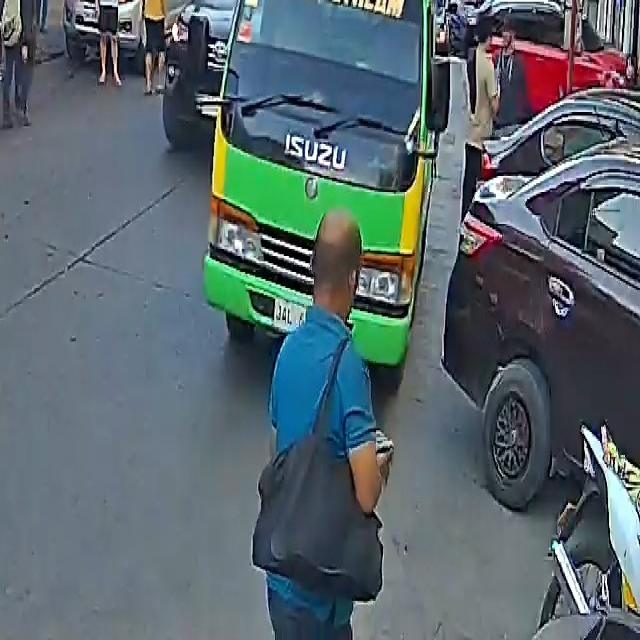car: (56, 0, 206, 75)
